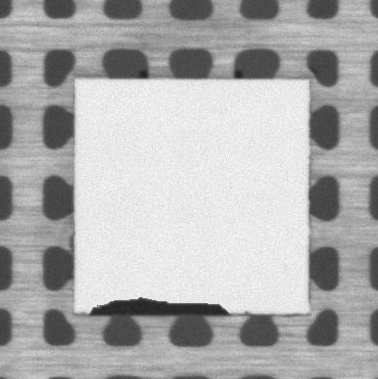DIE_BROKEN: (85, 295, 232, 317)
